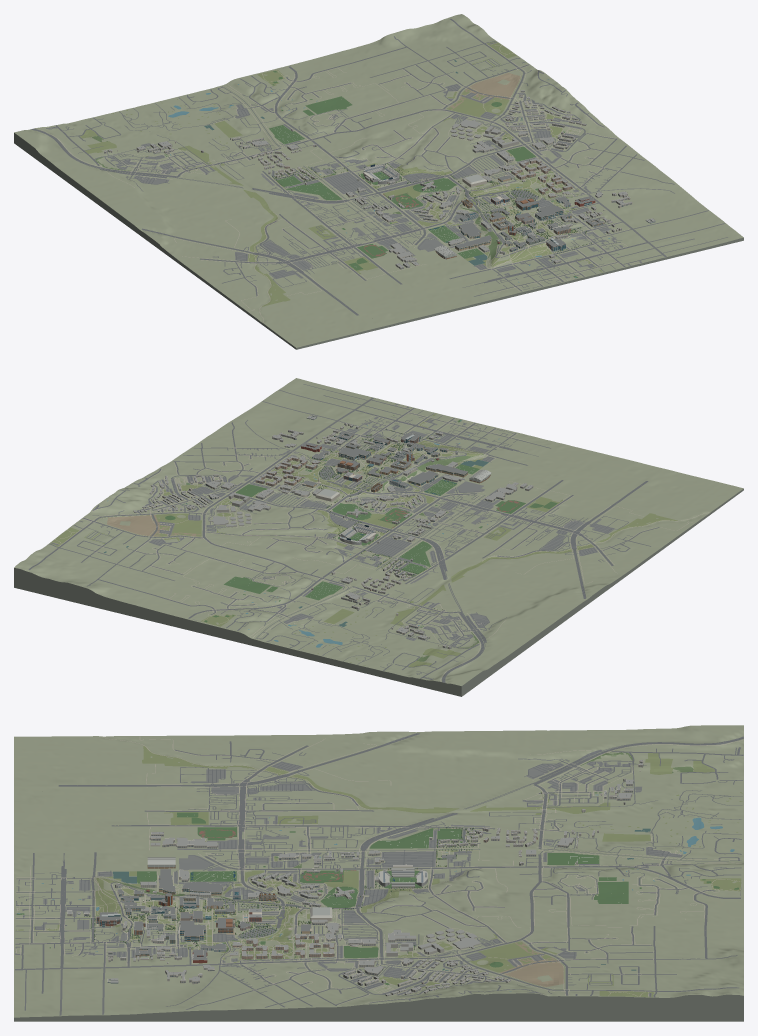
File: campus_web.glb
The picture shows the model from 3 angles, top to bottom: view 1: azimuth 30°, elevation 25°; view 2: azimuth 150°, elevation 25°; view 3: azimuth 270°, elevation 25°; orthographic projection. The views are drawn at different scales.
Parts seen in each view (by area): view 1: campus_tile_-2_-2, campus_tile_1_-4, campus_tile_-1_0, campus_tile_-1_1, campus_tile_1_-3, campus_tile_-1_-2, campus_tile_0_0, campus_tile_0_-1, campus_tile_-1_-1, campus_tile_1_-2, campus_tile_-2_-3, campus_tile_-4_-5 (+26 smaller); view 2: campus_tile_-2_-2, campus_tile_-1_0, campus_tile_1_-4, campus_tile_0_0, campus_tile_-1_-2, campus_tile_1_-3, campus_tile_-1_-1, campus_tile_0_-1, campus_tile_1_-2, campus_tile_0_-2, campus_tile_-1_1, campus_tile_-3_0 (+28 smaller); view 3: campus_tile_-2_-2, campus_tile_1_-4, campus_tile_0_0, campus_tile_-1_0, campus_tile_1_-3, campus_tile_-1_1, campus_tile_0_-1, campus_tile_-1_-2, campus_tile_1_-2, campus_tile_-1_-1, campus_tile_-3_0, campus_tile_-4_-5 (+41 smaller).
Part boxes in pixels (left/top/right/bottom): campus_tile_-2_-2: left=14, top=14, right=743, bottom=349; campus_tile_1_-4: left=430, top=73, right=520, bottom=123; campus_tile_-1_0: left=448, top=207, right=535, bottom=266; campus_tile_-1_1: left=449, top=234, right=602, bottom=287; campus_tile_1_-3: left=460, top=99, right=551, bottom=145; campus_tile_-1_-2: left=279, top=132, right=474, bottom=253; campus_tile_0_0: left=497, top=196, right=592, bottom=237; campus_tile_0_-1: left=468, top=171, right=557, bottom=211; campus_tile_-1_-1: left=415, top=186, right=500, bottom=228; campus_tile_1_-2: left=495, top=130, right=590, bottom=171; campus_tile_-2_-3: left=293, top=145, right=386, bottom=198; campus_tile_-4_-5: left=30, top=129, right=243, bottom=188; campus_tile_-2_-2: left=14, top=378, right=743, bottom=696; campus_tile_-1_0: left=367, top=447, right=483, bottom=489; campus_tile_1_-4: left=107, top=509, right=225, bottom=549; campus_tile_0_0: left=312, top=438, right=417, bottom=474; campus_tile_-1_-2: left=304, top=482, right=449, bottom=596; campus_tile_1_-3: left=150, top=486, right=246, bottom=525; campus_tile_-1_-1: left=341, top=475, right=436, bottom=511; campus_tile_0_-1: left=283, top=459, right=368, bottom=495; campus_tile_1_-2: left=192, top=467, right=290, bottom=503; campus_tile_0_-2: left=249, top=480, right=339, bottom=518; campus_tile_-1_1: left=391, top=420, right=538, bottom=465; campus_tile_-3_0: left=475, top=480, right=573, bottom=520; campus_tile_-2_-2: left=14, top=725, right=743, bottom=1021; campus_tile_1_-4: left=461, top=937, right=576, bottom=986; campus_tile_0_0: left=139, top=897, right=237, bottom=954; campus_tile_-1_0: left=106, top=869, right=244, bottom=914; campus_tile_1_-3: left=382, top=937, right=492, bottom=981; campus_tile_-1_1: left=51, top=852, right=154, bottom=942; campus_tile_0_-1: left=226, top=906, right=324, bottom=949; campus_tile_-1_-2: left=148, top=831, right=593, bottom=913; campus_tile_1_-2: left=297, top=935, right=403, bottom=988; campus_tile_-1_-1: left=223, top=870, right=320, bottom=914; campus_tile_-3_0: left=111, top=810, right=239, bottom=850; campus_tile_-4_-5: left=463, top=736, right=743, bottom=809.
Size of the model in its own units: 141 by 6.64 by 154.
